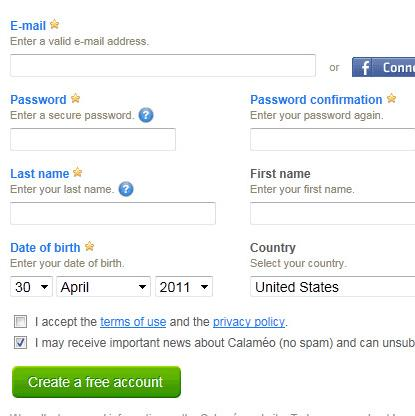button: (11, 366, 183, 398)
checkbox: (12, 336, 31, 351), (14, 313, 30, 329)
checkbox_with_label: (11, 312, 290, 330)
field: (10, 52, 317, 77), (9, 199, 217, 226), (8, 126, 176, 152), (55, 276, 152, 298), (153, 276, 212, 298), (9, 276, 53, 297)
field_with_label: (8, 35, 320, 79), (7, 183, 220, 228), (5, 109, 178, 153)
